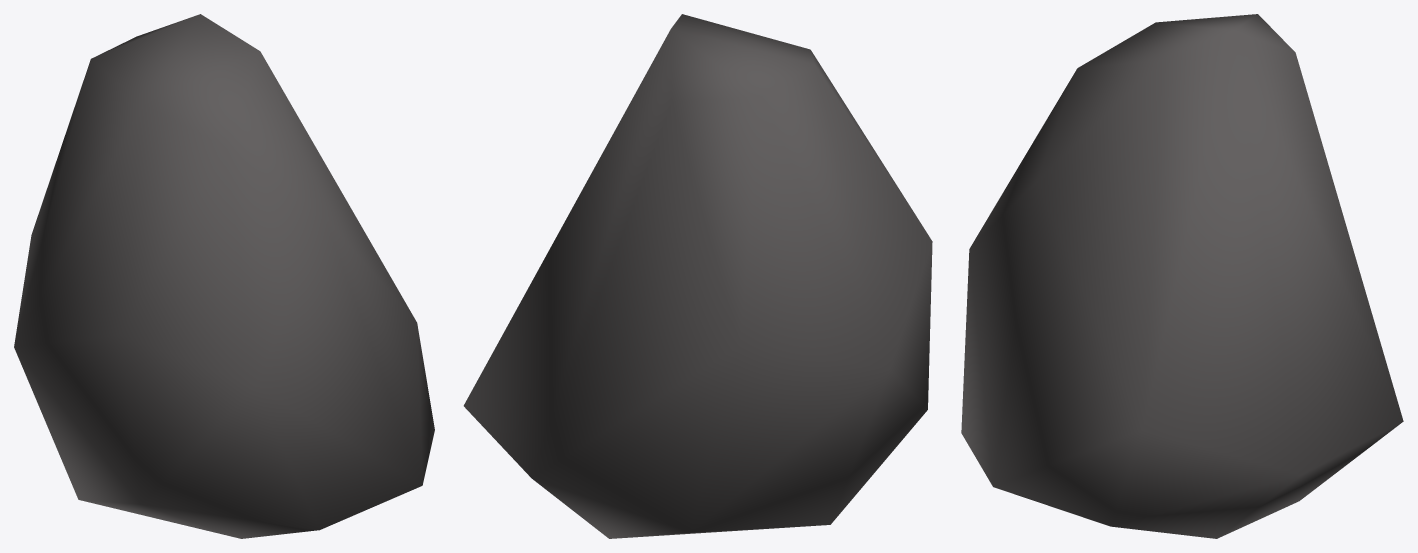
File: Rock 2.fbx
3 renders of one model, left to right at view 1: azimuth 30°, elevation 25°; view 2: azimuth 150°, elevation 25°; view 3: azimuth 270°, elevation 25°, orthographic. The views are drawn at different scales.
Parts seen in each view (by area): view 1: Rock 2; view 2: Rock 2; view 3: Rock 2.
Boxes of the visible parts, <box> form: Rock 2: <box>14,14,434,538</box>; Rock 2: <box>463,14,932,538</box>; Rock 2: <box>961,14,1403,538</box>.
Bounding box in the file's own units: 0.6812 × 0.8142 × 0.7098.
